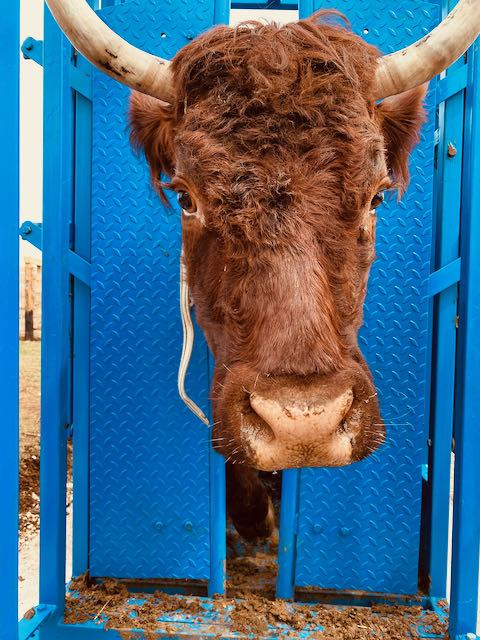muzzles: (201, 372, 394, 475)
